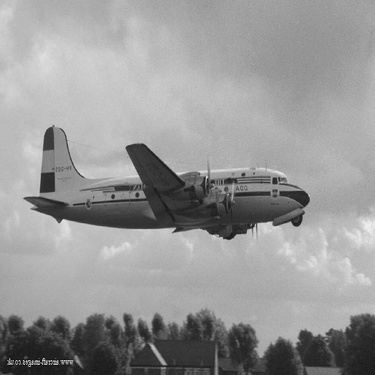airplane: (19, 121, 318, 243)
